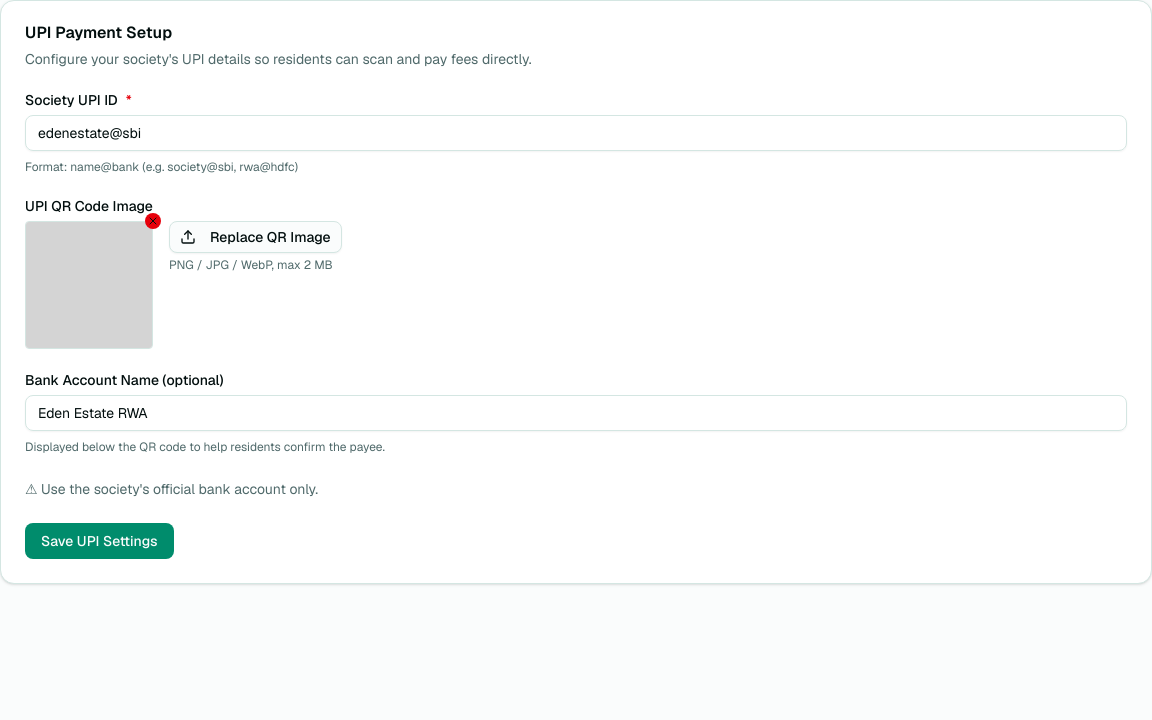
Test: PaymentSetupForm › removes QR preview when X button is clicked
What coordinates should you click on to do the following:
click the button named "Remove QR image"
I would click on:
 (153, 221)
Its box is [145,213,161,229].
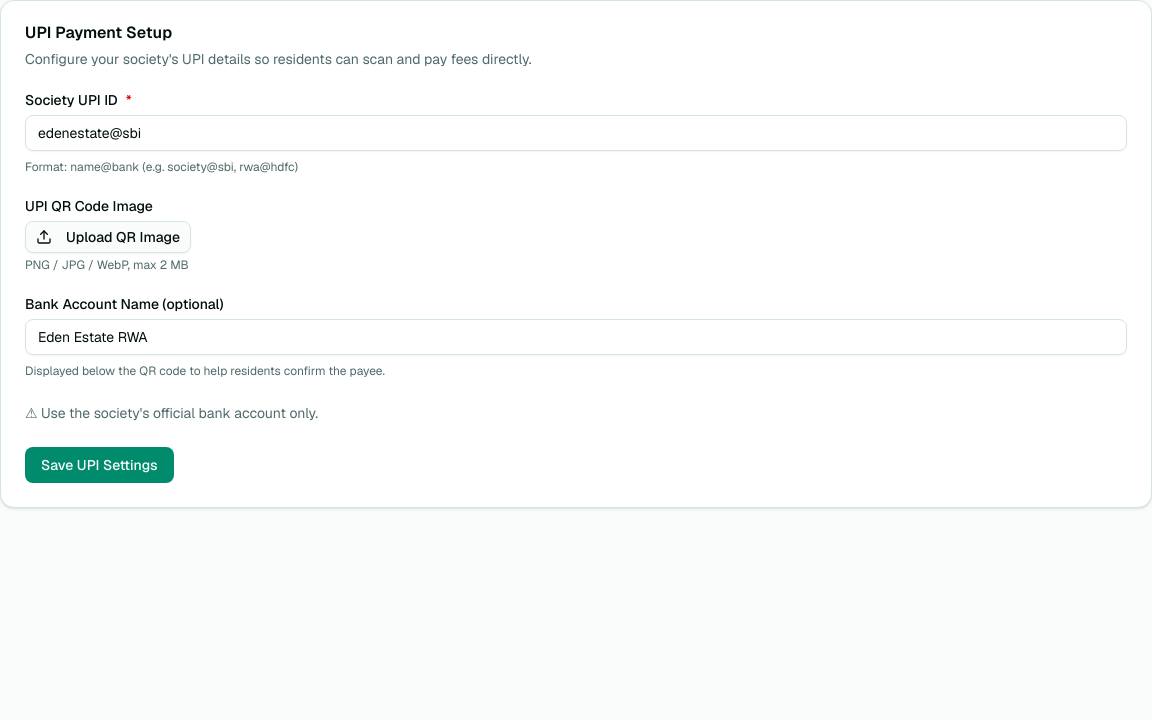
expect the button "Upload QR Image" is shown: met, box [25,221,191,253]
